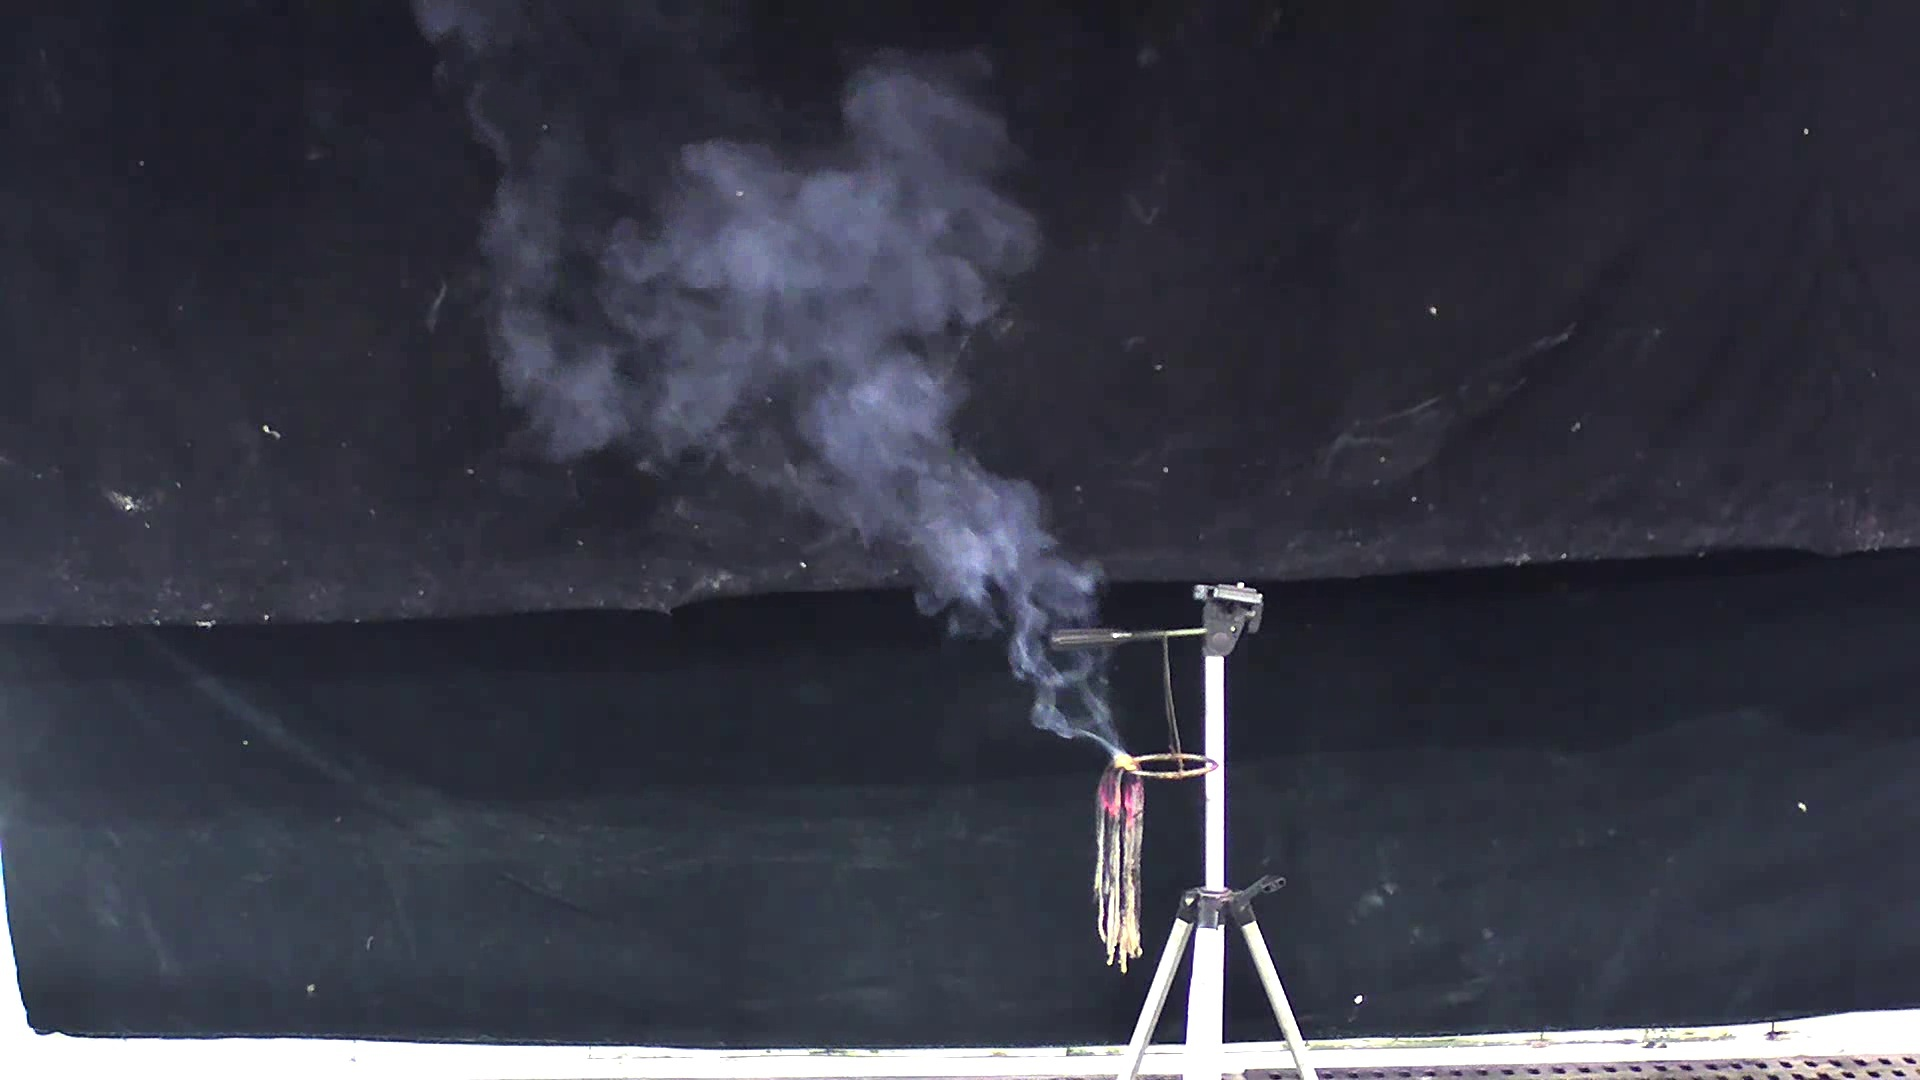smoke: (398, 16, 1135, 764)
